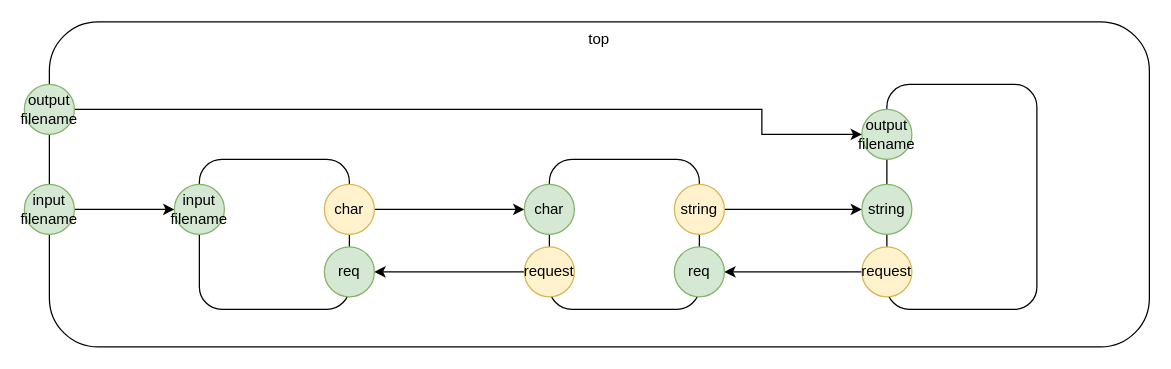
The diagram is 1171 pixels wide and 369 high, and some of its shapes have lost their labels. The shapes that lost their labels are listed below. From the top down, each one's box as (x1, y1, x2, y2) in pixels, then its label:
(886, 83, 1037, 309): write
(198, 158, 349, 309): read
(548, 158, 699, 309): process
